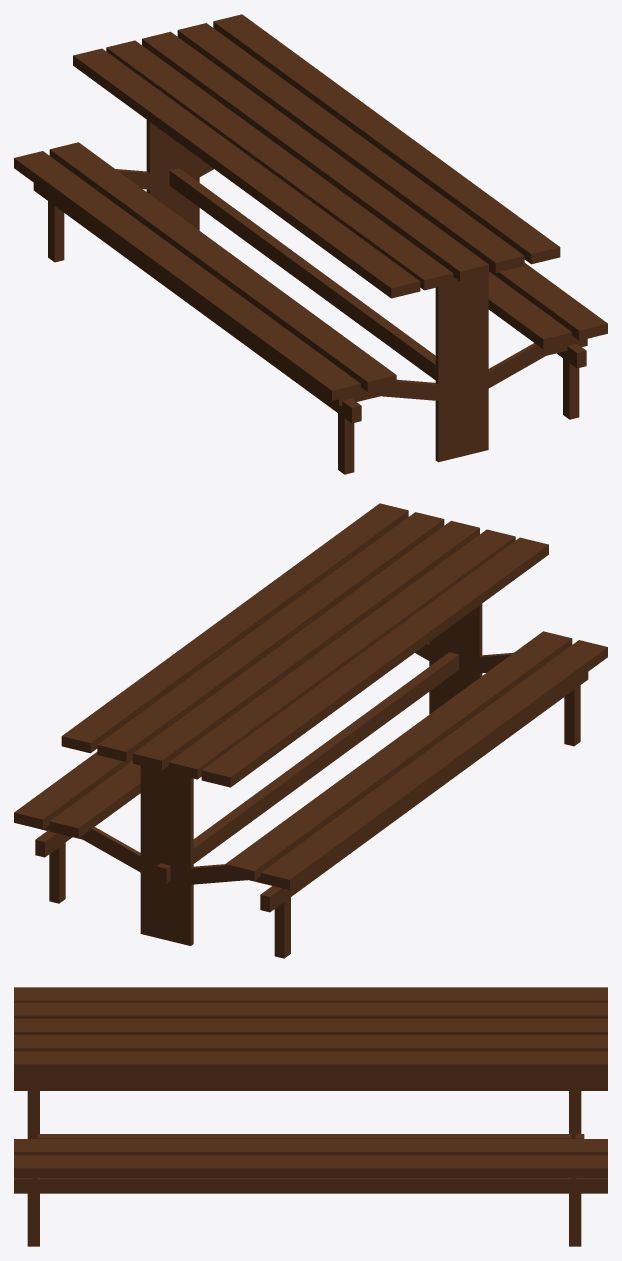
The model's file is MOD_Tablepicnik.FBX.
3 views of the same model, one above another, from view 1: azimuth 30°, elevation 25°; view 2: azimuth 150°, elevation 25°; view 3: azimuth 270°, elevation 25° (orthographic). The views are drawn at different scales.
Parts seen in each view (by area): view 1: MOD_Tables; view 2: MOD_Tables; view 3: MOD_Tables.
Boxes of the visible parts, x1,y1,x2,y2 form: MOD_Tables: (14,14,607,474); MOD_Tables: (14,503,607,958); MOD_Tables: (14,987,607,1246).
Size of the model in its own units: 1.75 by 1.18 by 3.5.
